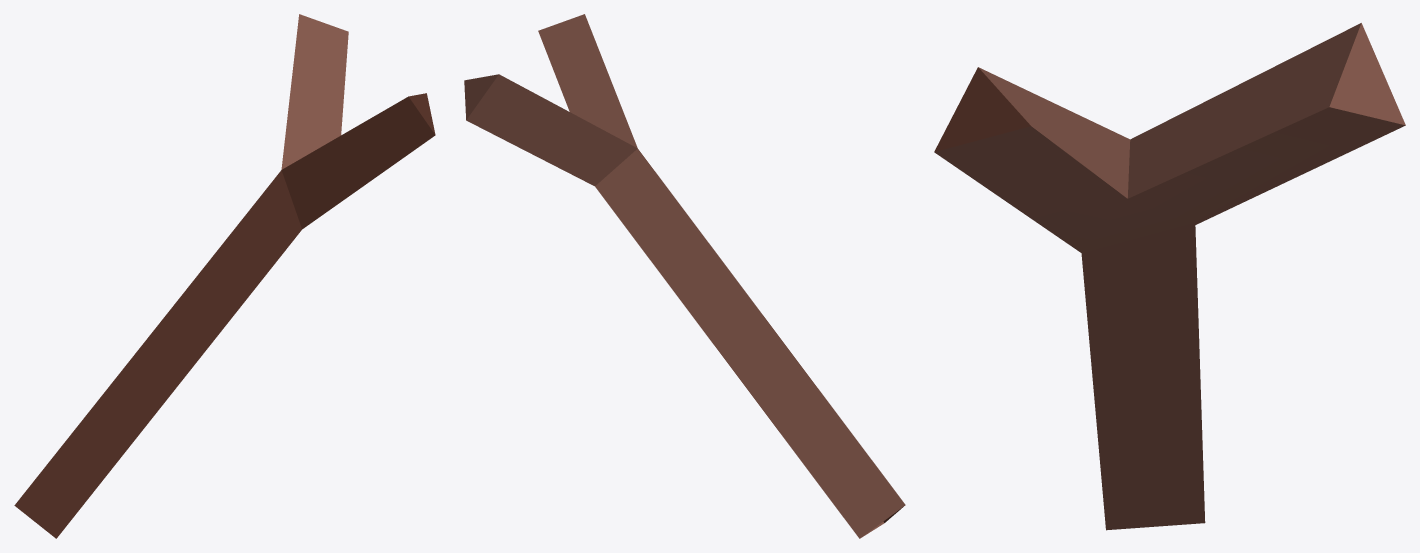
The model's file is HolidaySnowManLeftArm.fbx.
The picture shows the model from 3 angles, left to right: view 1: azimuth 30°, elevation 25°; view 2: azimuth 150°, elevation 25°; view 3: azimuth 270°, elevation 25°; orthographic projection. The views are drawn at different scales.
Parts seen in each view (by area): view 1: HolidaySnowManLeftArm; view 2: HolidaySnowManLeftArm; view 3: HolidaySnowManLeftArm.
Boxes of the visible parts, x1,y1,x2,y2 form: HolidaySnowManLeftArm: (14, 14, 435, 538); HolidaySnowManLeftArm: (464, 14, 905, 538); HolidaySnowManLeftArm: (934, 23, 1405, 530).
Bounding box in the file's own units: 23.71 × 23.88 × 12.66.
